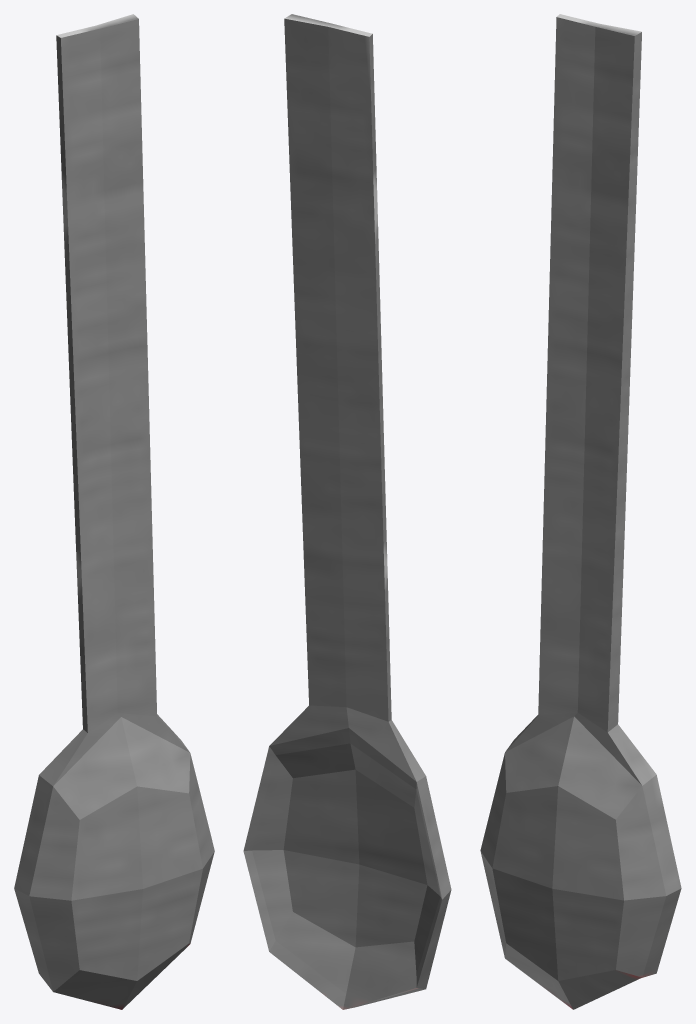
Rendered from Spoon.fbx.
3 renders of one model, left to right at view 1: azimuth 30°, elevation 25°; view 2: azimuth 150°, elevation 25°; view 3: azimuth 330°, elevation 25°, orthographic. The views are drawn at different scales.
Visible parts, largest first — view 1: Cube; view 2: Cube; view 3: Cube.
Boxes of the visible parts, x1,y1,x2,y2 form: Cube: [14, 14, 214, 1009]; Cube: [243, 14, 451, 1009]; Cube: [480, 14, 681, 1009].
Size of the model in its own units: 32.52 by 156 by 14.54.
